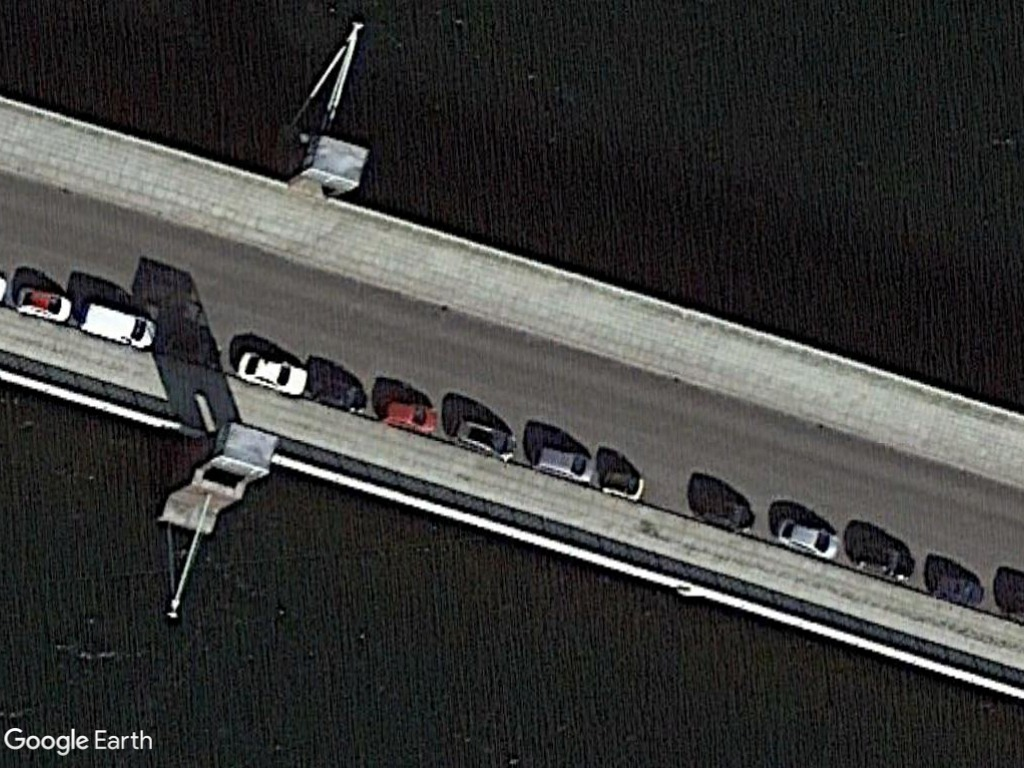car: (230, 348, 315, 400), (446, 410, 522, 465), (770, 511, 843, 561), (372, 390, 444, 439), (527, 438, 597, 484), (10, 280, 77, 327)
van: (72, 295, 160, 353)
